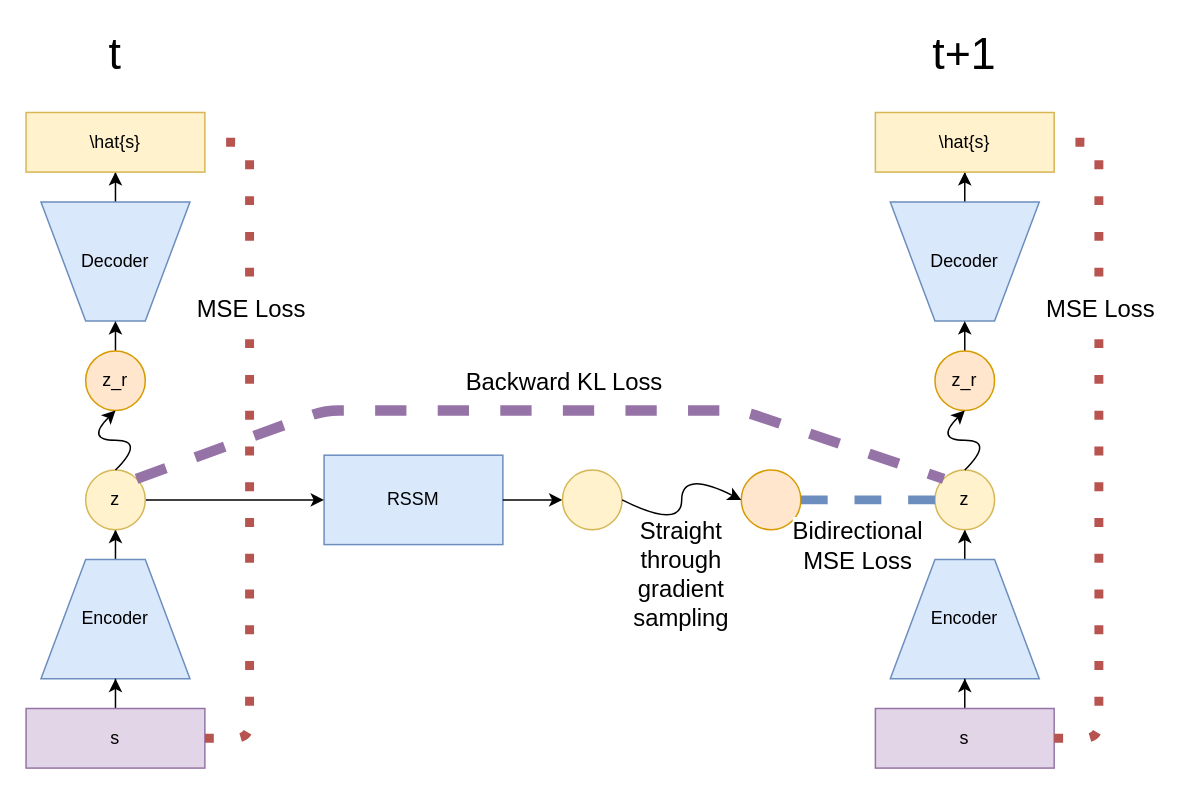
Some shapes in this 1180 by 794 pixel diagram are drawn without their labels. The centre of each missing label's shape, as x and y in pixels:
"\hat{z}" belongs at point 591,499.
"\hat{z}r" belongs at point 770,499.
